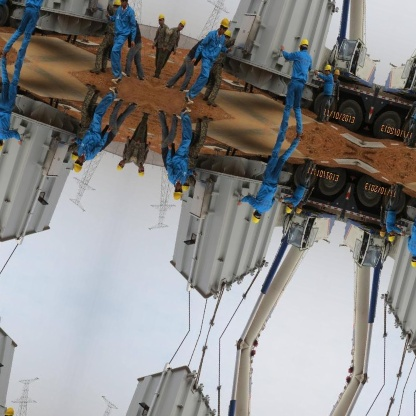yellow: (169, 186, 185, 204), (248, 210, 262, 224), (179, 181, 191, 195), (136, 168, 148, 180), (294, 206, 303, 216), (285, 205, 293, 214)
